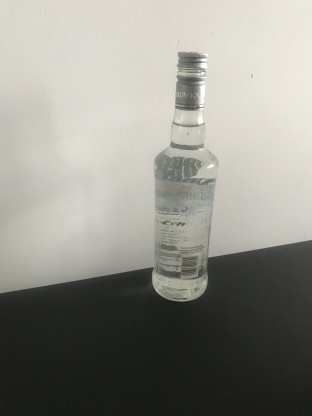nakretka: (174, 48, 208, 111)
